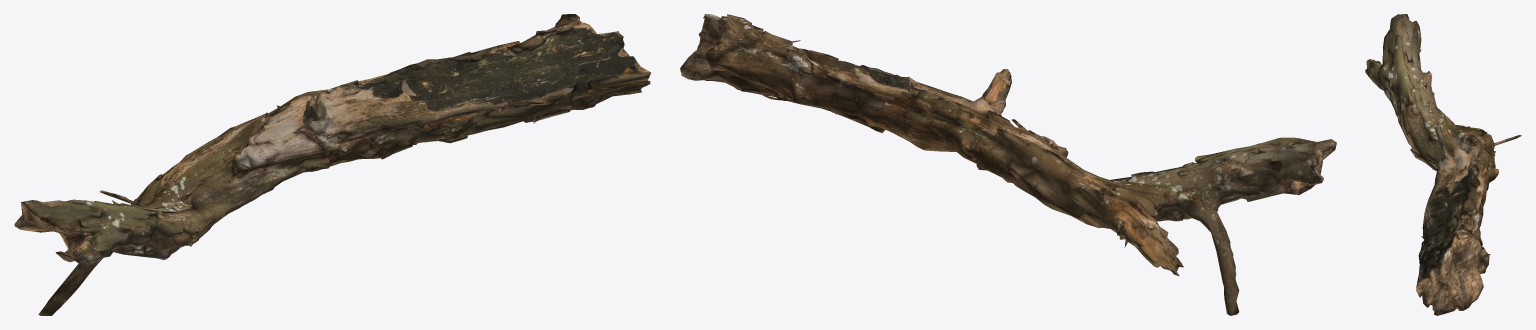
The model's file is dead_tree_trunk_02.glb.
The picture shows the model from 3 angles, left to right: view 1: azimuth 30°, elevation 25°; view 2: azimuth 150°, elevation 25°; view 3: azimuth 270°, elevation 25°; orthographic projection. The views are drawn at different scales.
Visible parts, largest first — view 1: dead_tree_trunk_02; view 2: dead_tree_trunk_02; view 3: dead_tree_trunk_02.
Boxes of the visible parts, x1,y1,x2,y2 form: dead_tree_trunk_02: [14, 14, 651, 315]; dead_tree_trunk_02: [680, 14, 1336, 315]; dead_tree_trunk_02: [1365, 14, 1521, 315].
Bounding box in the file's own units: 4.05 × 1.05 × 1.05.
Materials: 1 (1 with a texture image).
